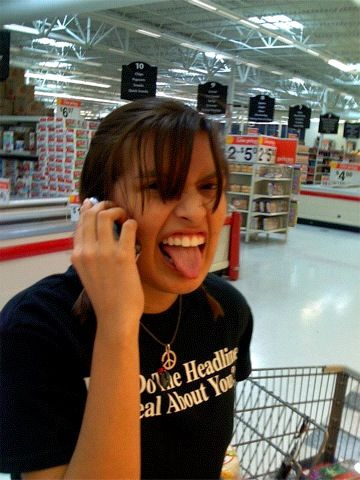person: (1, 95, 258, 480)
